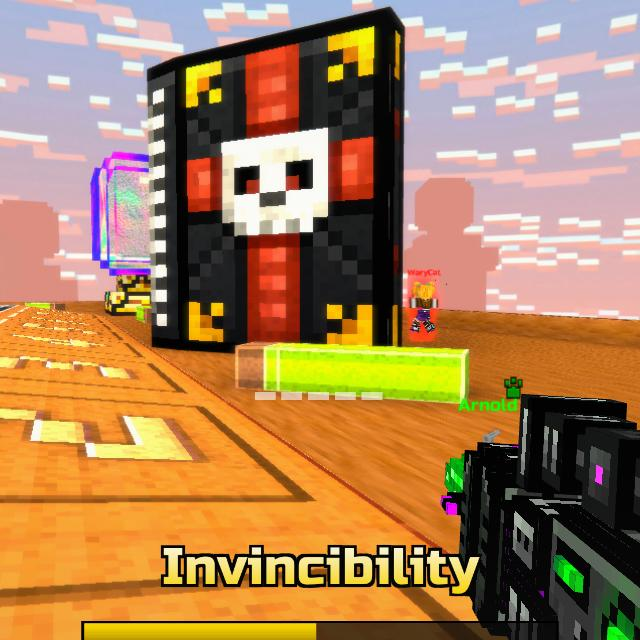Enemy: (407, 281, 438, 334)
